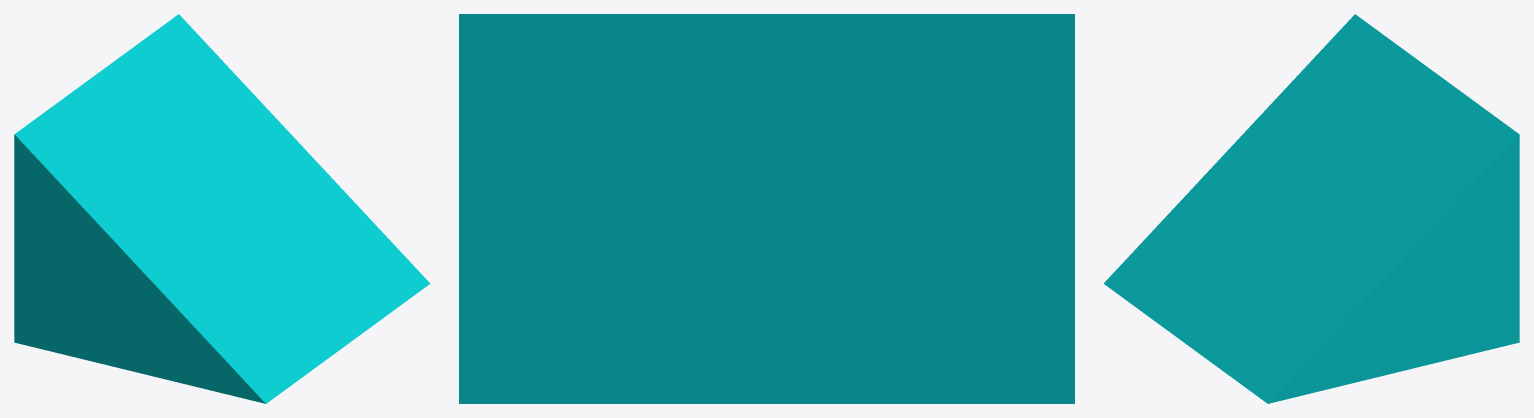
The model's file is RPG_Tiles_Hex_Water_Ramp_01.FBX.
The picture shows the model from 3 angles, left to right: view 1: azimuth 30°, elevation 25°; view 2: azimuth 150°, elevation 25°; view 3: azimuth 270°, elevation 25°; orthographic projection. The views are drawn at different scales.
Visible parts, largest first — view 1: RPG_Tiles_Hex_Water_Ramp_01; view 2: RPG_Tiles_Hex_Water_Ramp_01; view 3: RPG_Tiles_Hex_Water_Ramp_01.
Boxes of the visible parts, x1,y1,x2,y2 form: RPG_Tiles_Hex_Water_Ramp_01: [14, 14, 430, 403]; RPG_Tiles_Hex_Water_Ramp_01: [459, 14, 1074, 403]; RPG_Tiles_Hex_Water_Ramp_01: [1103, 14, 1519, 403].
Bounding box in the file's own units: 2220 × 1186 × 2148.
